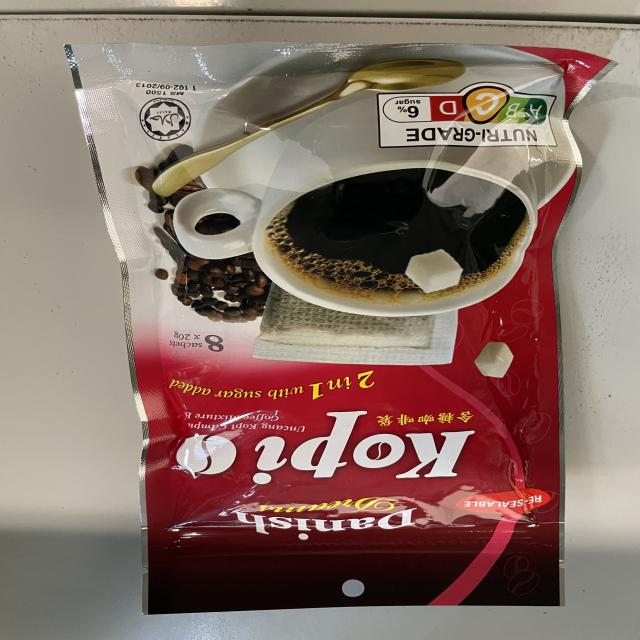object_name: (91, 49, 564, 608)
